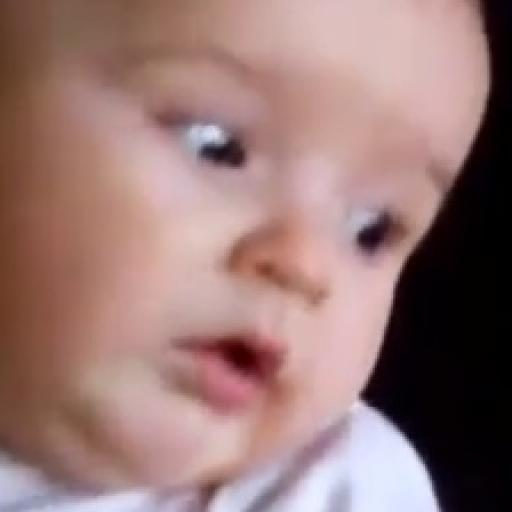Autism: (28, 8, 501, 512)
